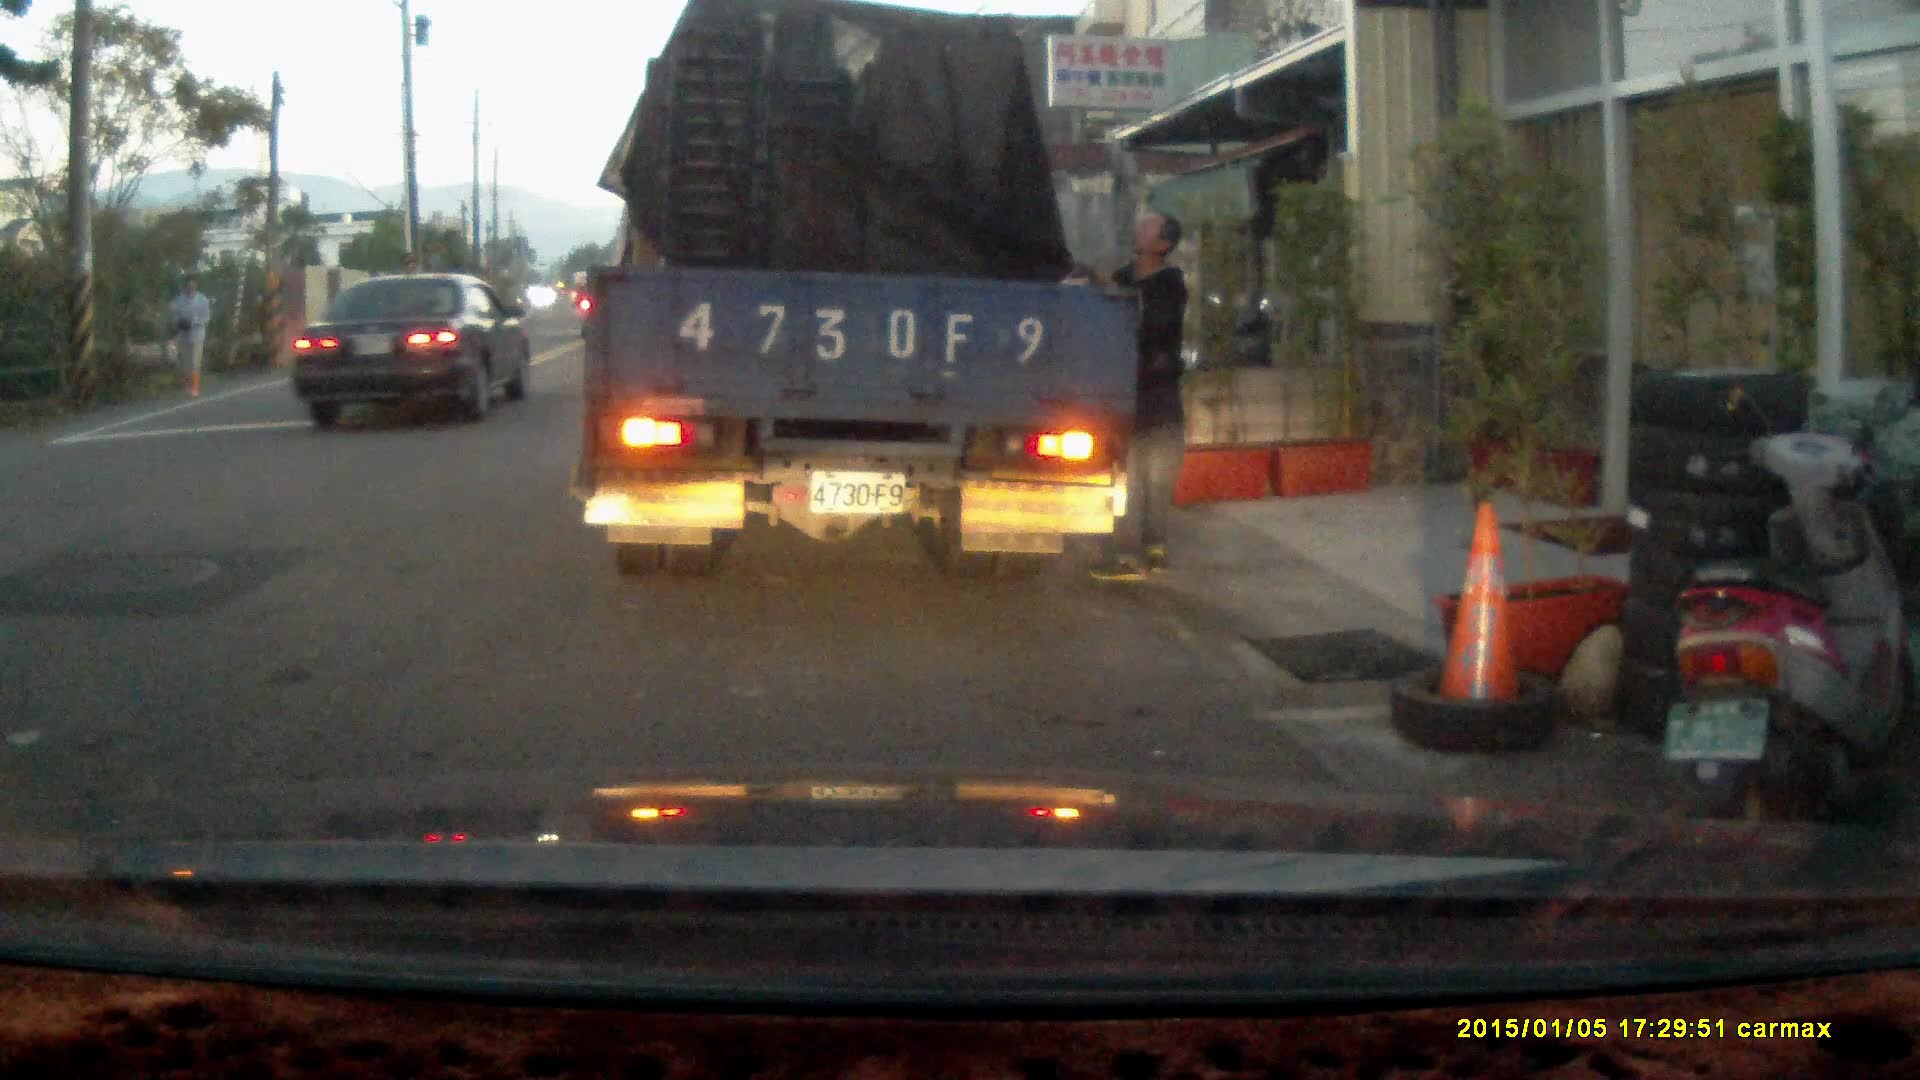pedestrian: (1071, 205, 1191, 581), (165, 272, 211, 401)
vehicle: (585, 23, 1137, 572), (290, 270, 534, 432)
